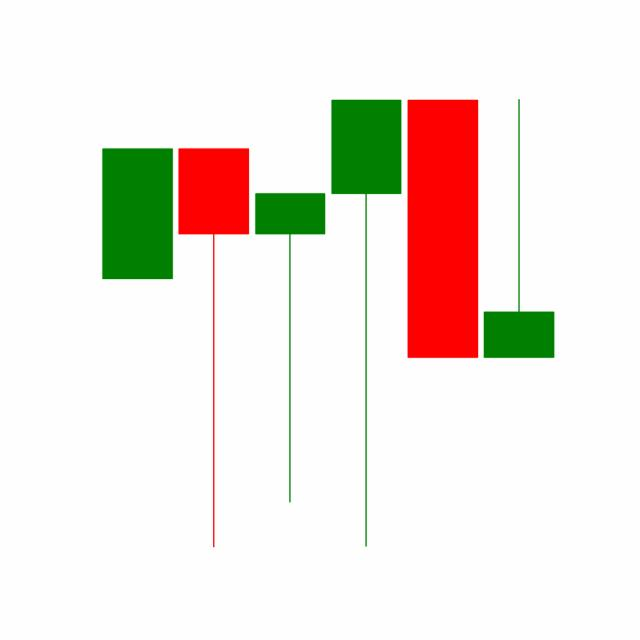Marubozu: (403, 97, 481, 360)
